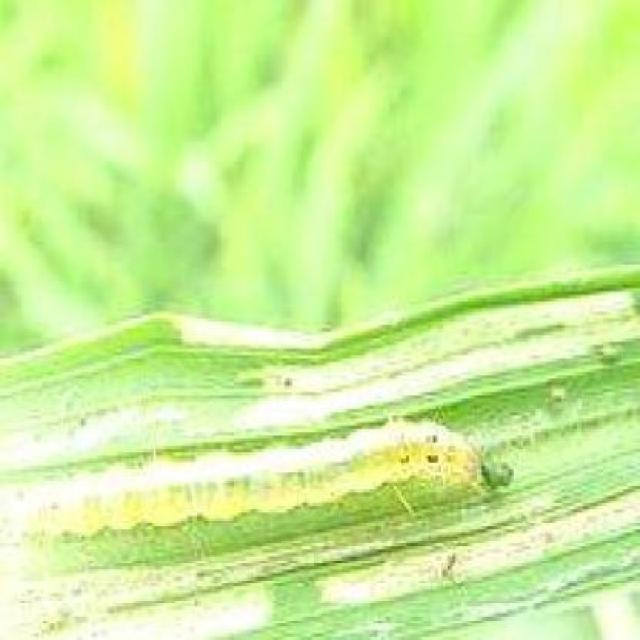leaf-folder: (13, 398, 553, 550)
